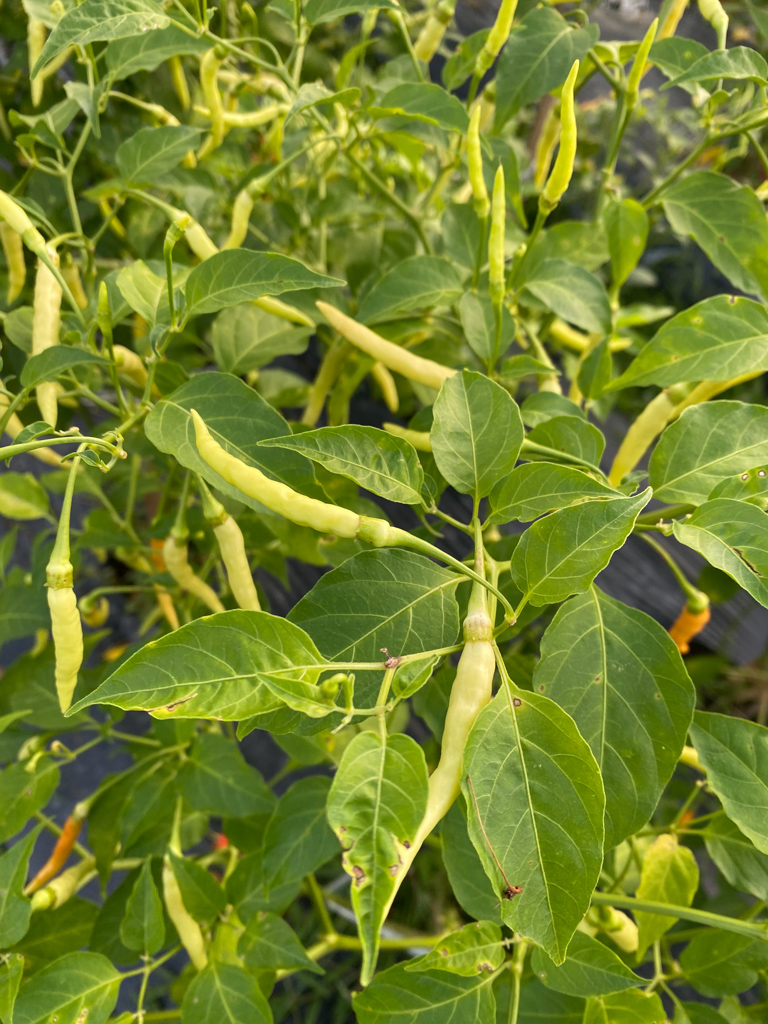frog-eye leafspot: (67, 1004, 92, 1023), (686, 312, 709, 332), (735, 470, 767, 484), (627, 230, 642, 251)
